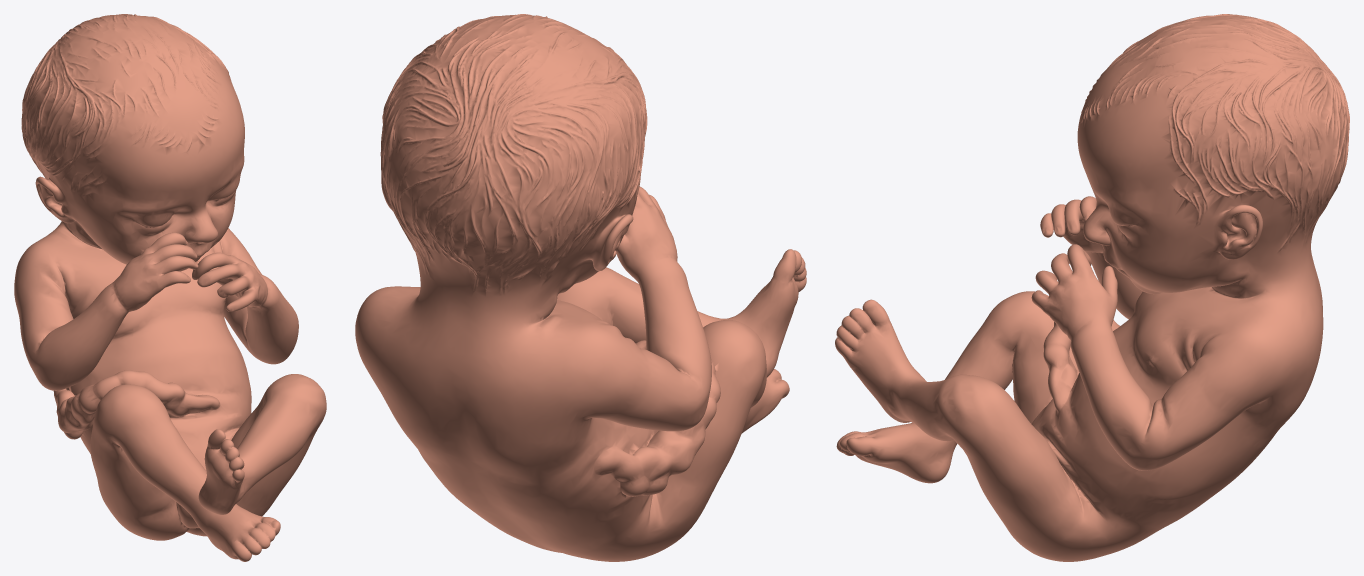
The model's file is semaine-28.glb.
3 views of the same model, side by side, from view 1: azimuth 30°, elevation 25°; view 2: azimuth 150°, elevation 25°; view 3: azimuth 270°, elevation 25° (orthographic). The views are drawn at different scales.
Bounding box in the file's own units: 1.1 × 1.9 × 1.7.
